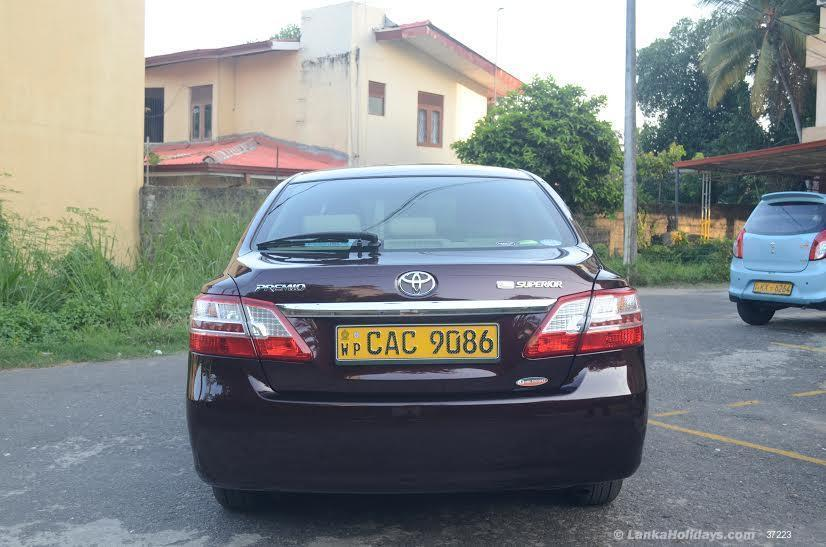license-plate: (335, 325, 498, 358), (752, 281, 791, 293)
